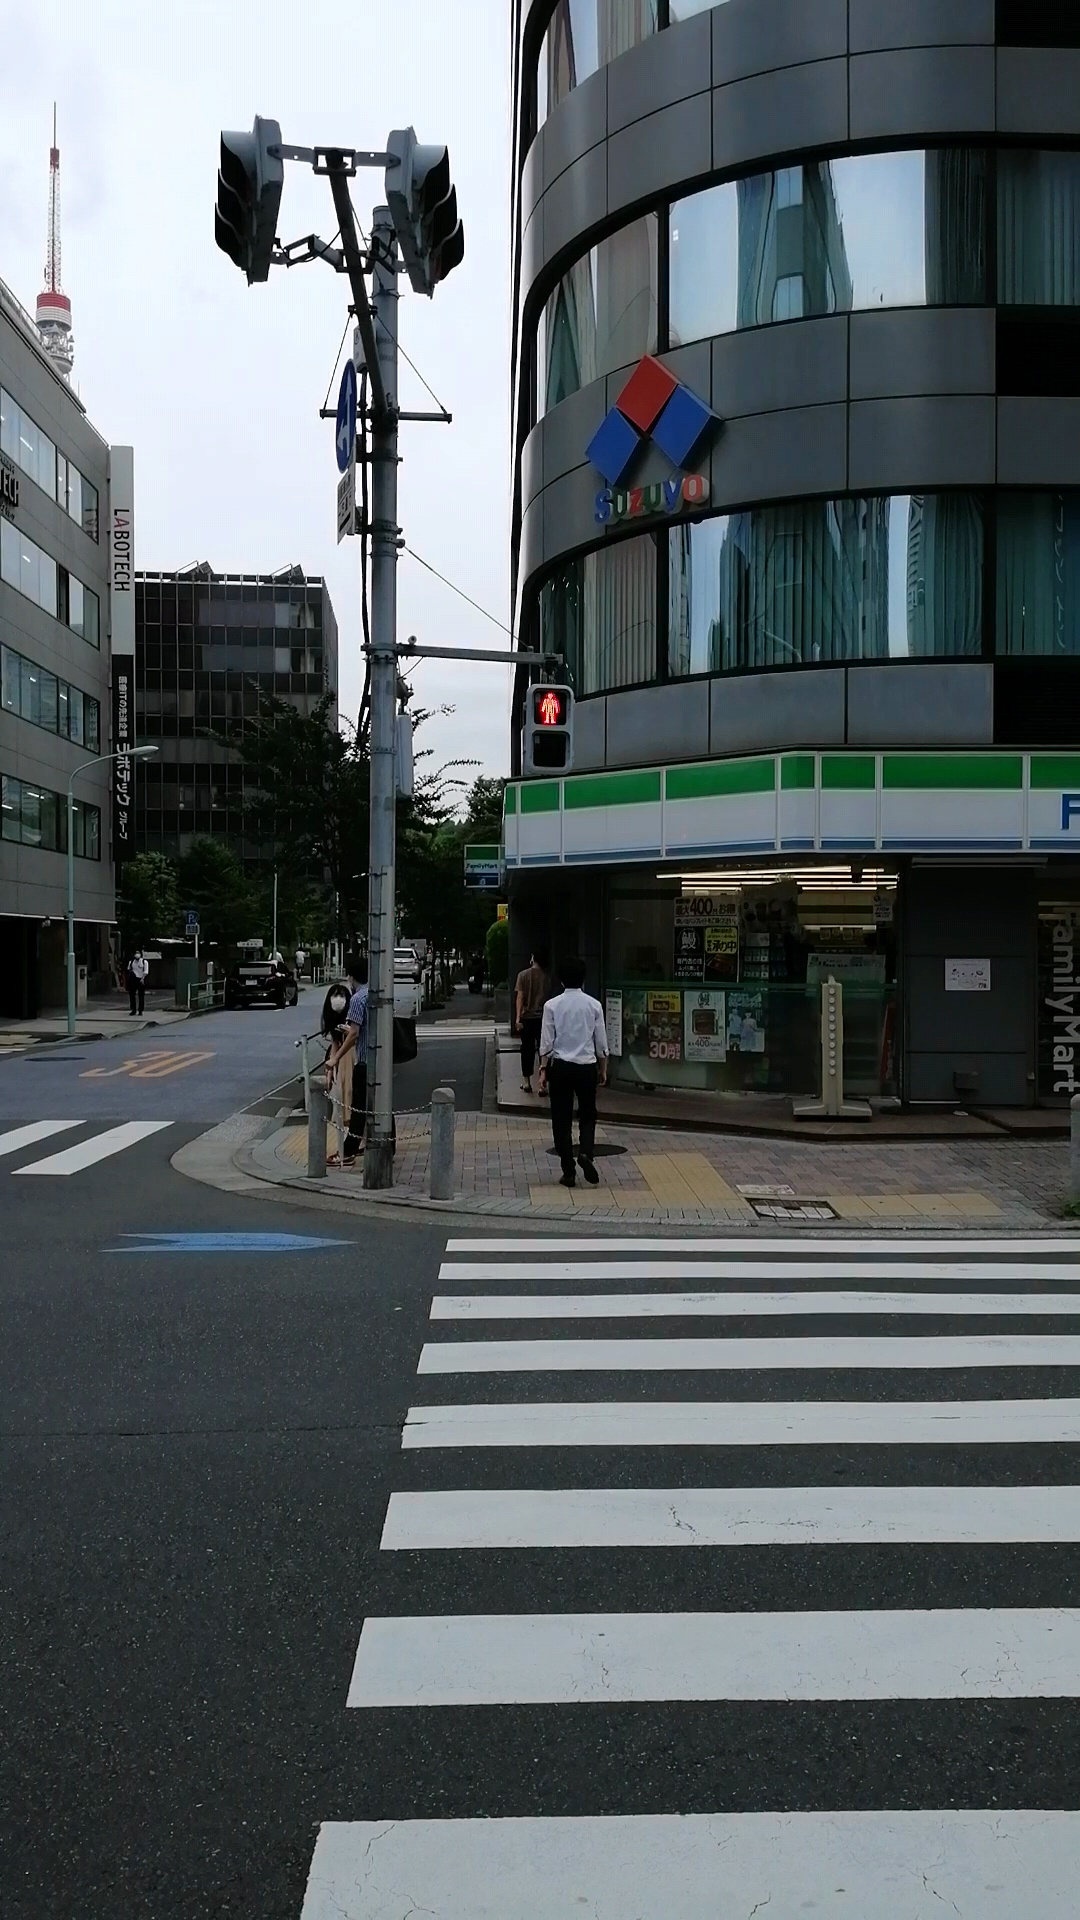red: (524, 680, 574, 775)
